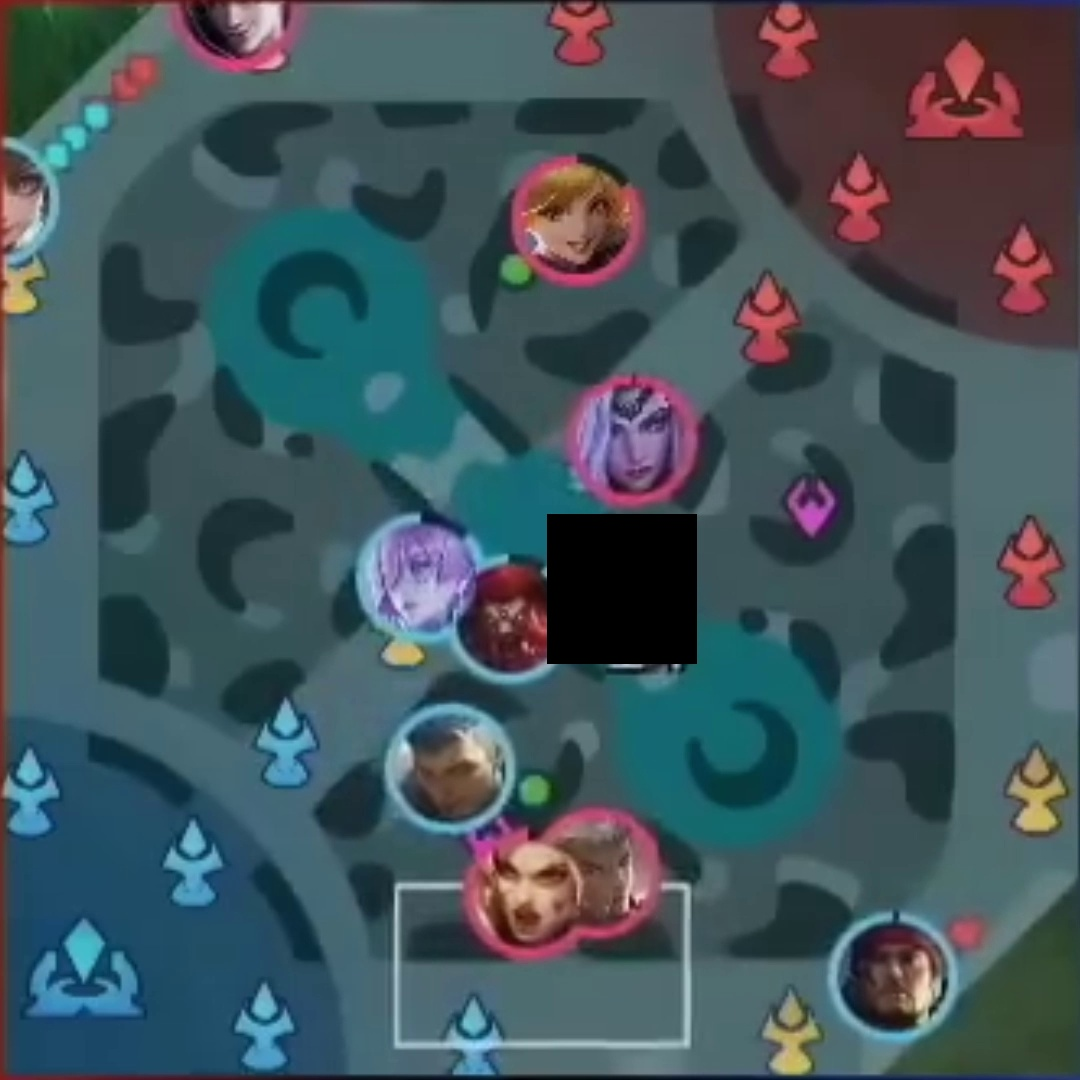Chou: (565, 815, 661, 937)
Claude: (194, 1, 280, 54)
Fanny: (515, 158, 643, 281)
Fredrinn: (390, 713, 501, 818)
Lapu-Lapu: (839, 920, 939, 1023)
Masha: (472, 844, 582, 944)
Minotaur: (463, 564, 565, 680)
Novaria: (366, 521, 470, 625)
Valentina: (571, 385, 697, 500)
Wanwan: (1, 143, 57, 241)
